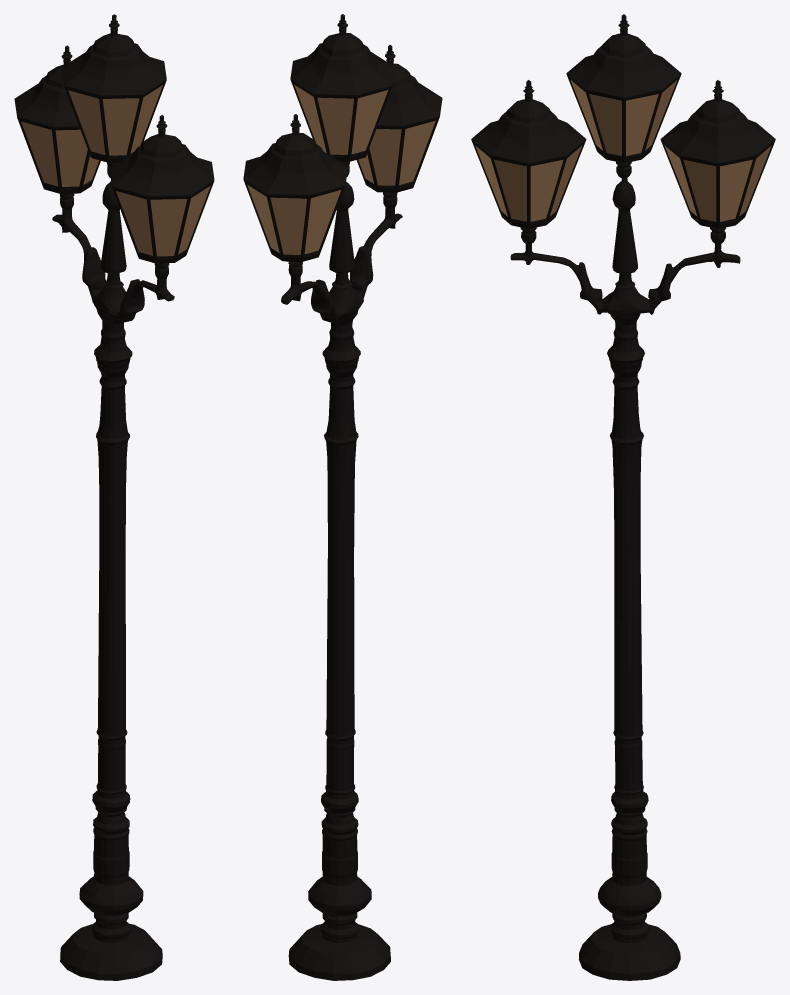
File: StreetLamp_001.obj
3 renders of one model, left to right at view 1: azimuth 30°, elevation 25°; view 2: azimuth 150°, elevation 25°; view 3: azimuth 270°, elevation 25°, orthographic.
Parts seen in each view (by area): view 1: lamp_lamp_0, lamp_lumierre_0; view 2: lamp_lamp_0, lamp_lumierre_0; view 3: lamp_lamp_0, lamp_lumierre_0.
Part boxes in pixels (<box>): lamp_lamp_0: <box>14,14,214,980</box>; lamp_lumierre_0: <box>21,85,210,256</box>; lamp_lamp_0: <box>243,14,442,980</box>; lamp_lumierre_0: <box>247,85,435,254</box>; lamp_lamp_0: <box>471,14,775,980</box>; lamp_lumierre_0: <box>475,80,771,221</box>.
Bounding box in the file's own units: 0.3303 × 2.99 × 0.873.
